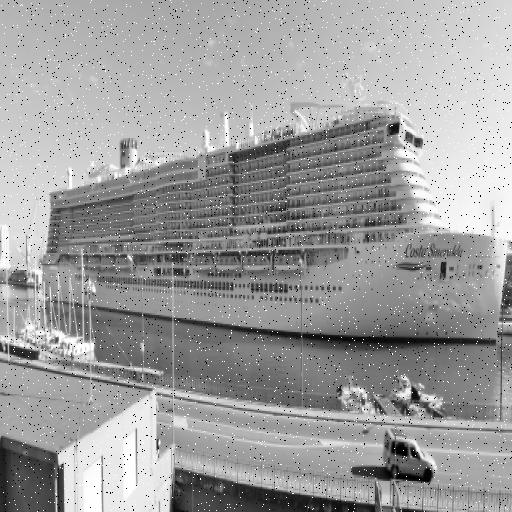cruises: (41, 69, 511, 353)
